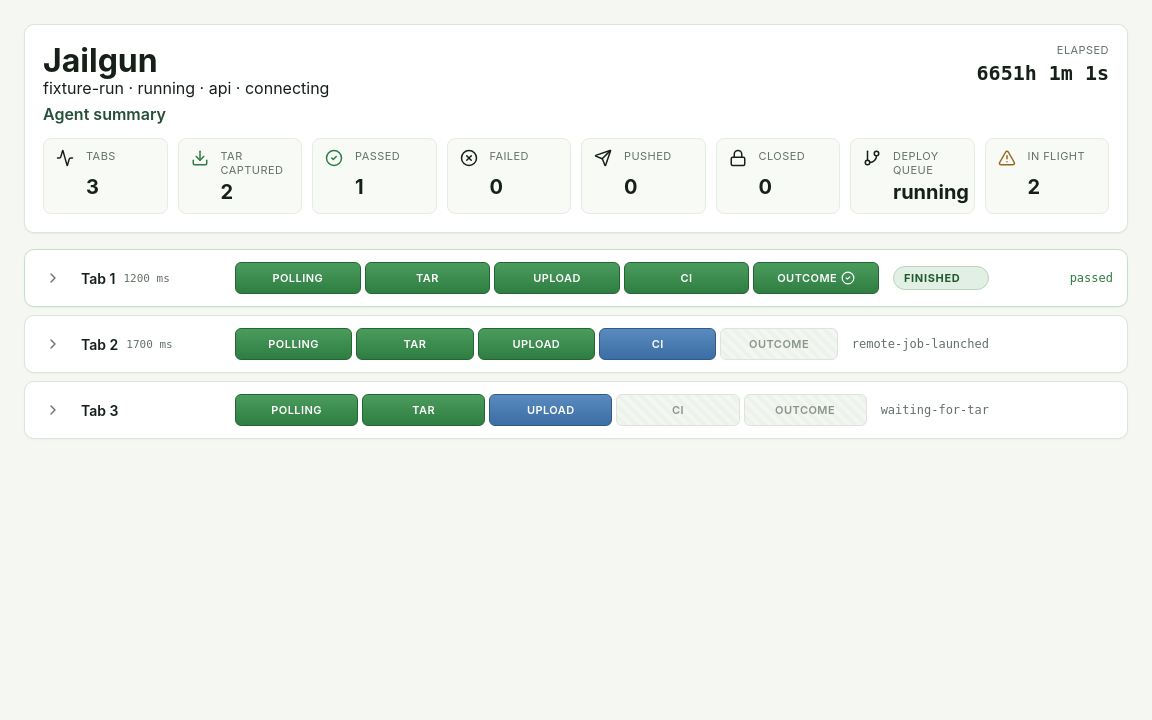
Scenario: surfaces post commit in the drilldown when post_head is set
The width and height of the screenshot is (1152, 720).
Expected: the element named "tab 1 row" is shown, 24,249 -> 1128,307
Click the button named "expand tab 1". click: (53, 278)
box: 39,266 -> 67,290
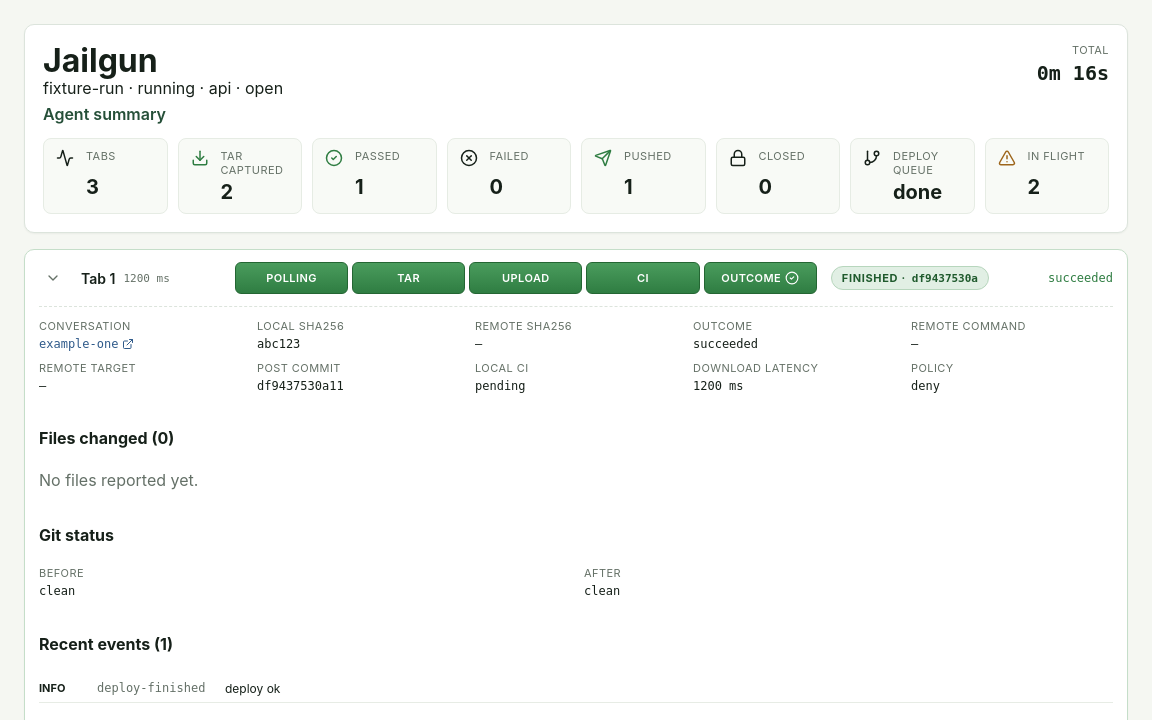
Expected: the text "Post commit" is shown, 257,361 -> 341,375
Expected: the text "df9437530a11" is shown, 257,379 -> 344,393
